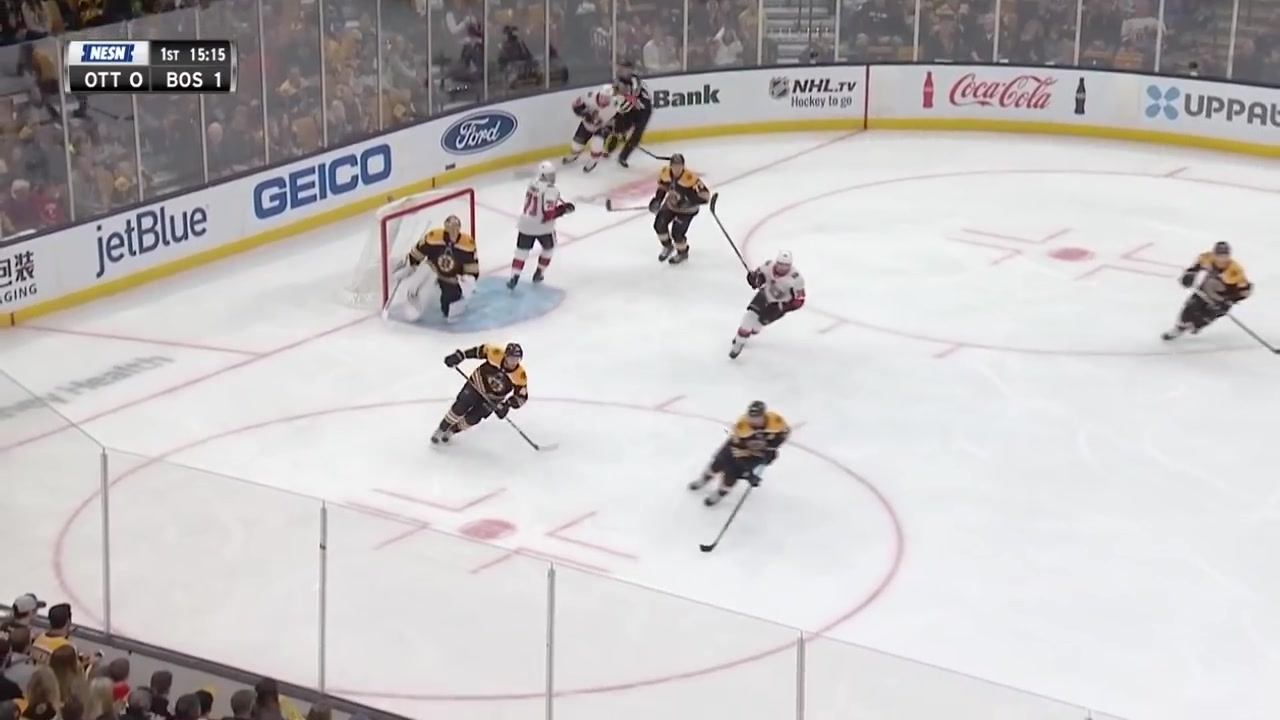geico: (251, 135, 403, 225)
